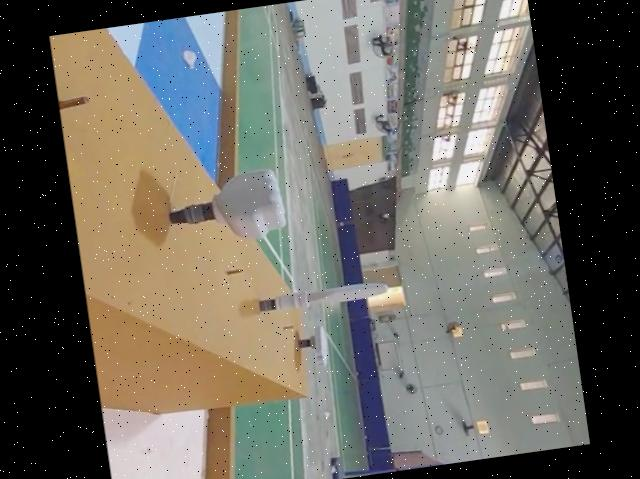Fist: (157, 163, 293, 246)
Hand: (295, 325, 332, 365)
Sph: (254, 273, 387, 313)
